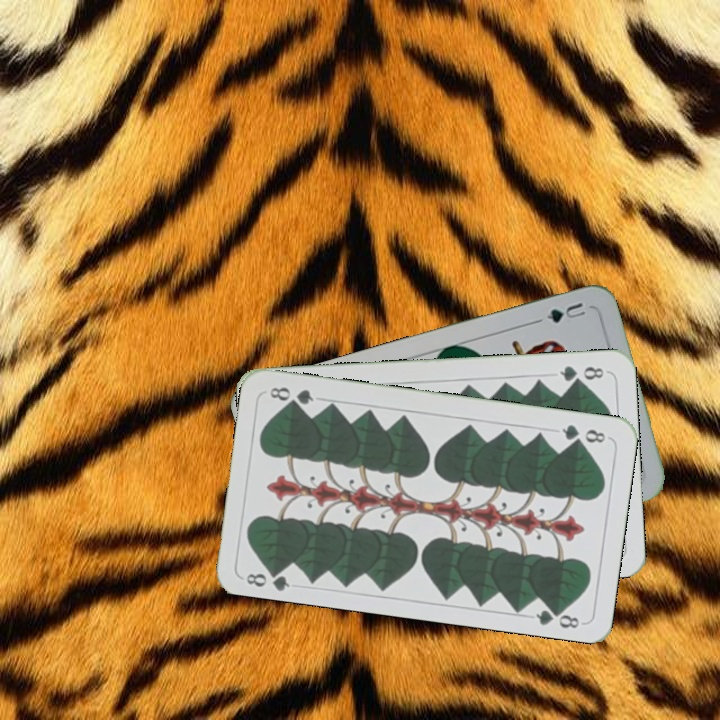G8: (242, 563, 292, 593), (557, 420, 608, 446), (555, 361, 607, 385)
GU: (542, 298, 588, 326)
